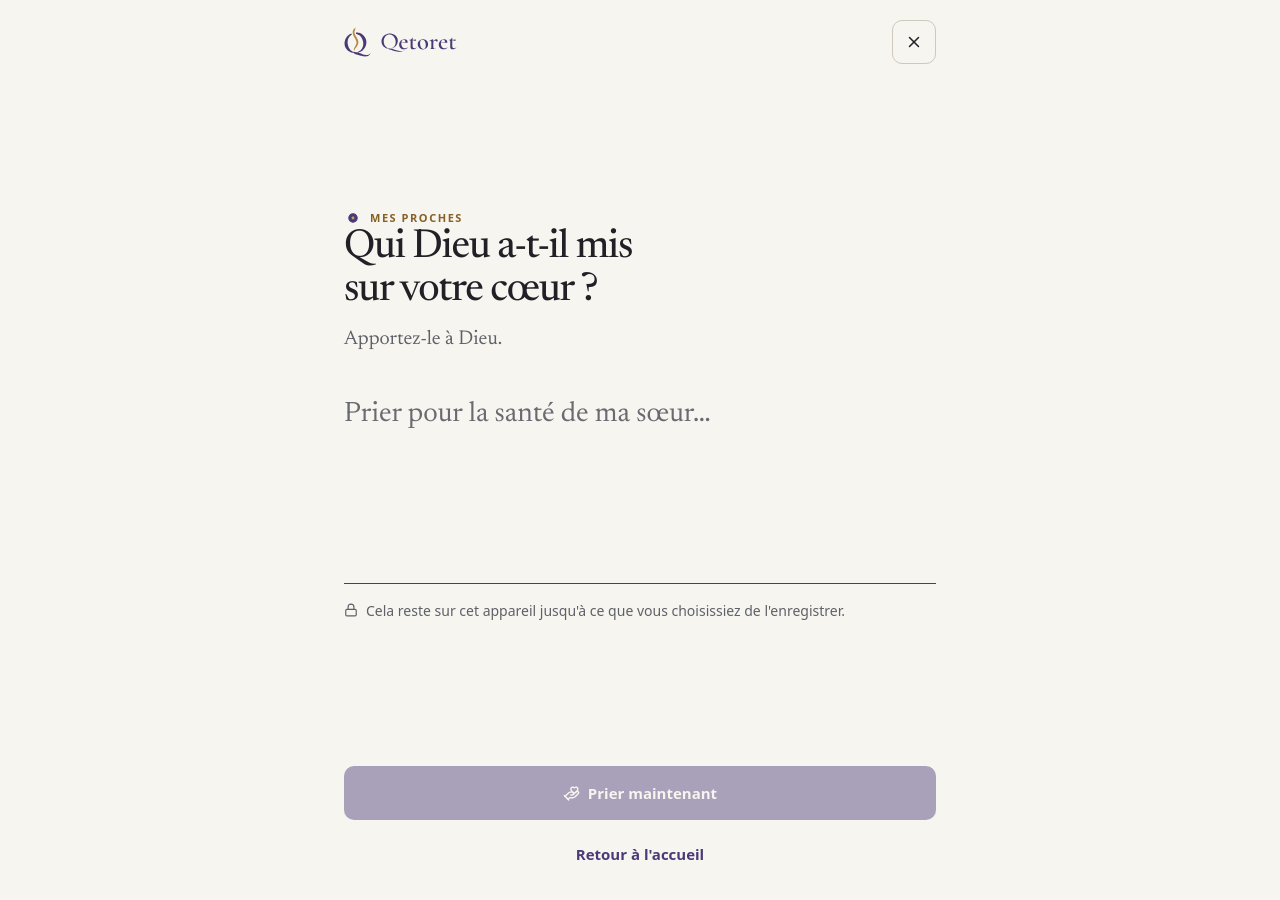
Test: GuestPrayerFlow from an Intercession Circle › asks the circle’s own question and keeps the circle with the draft
This screenshot has width=1280, height=900.
Check: the dialog "Qui Dieu a-t-il mis sur votre cœur ?" is shown, box x1=344 y1=20 x2=936 y2=876
Check: the text "Mes proches" is shown, box x1=370 y1=210 x2=463 y2=225
Type "Pour Marie" into the text box named "Qui Dieu a-t-il mis sur votre cœur ?" at [640, 480], box x1=344 y1=377 x2=936 y2=584
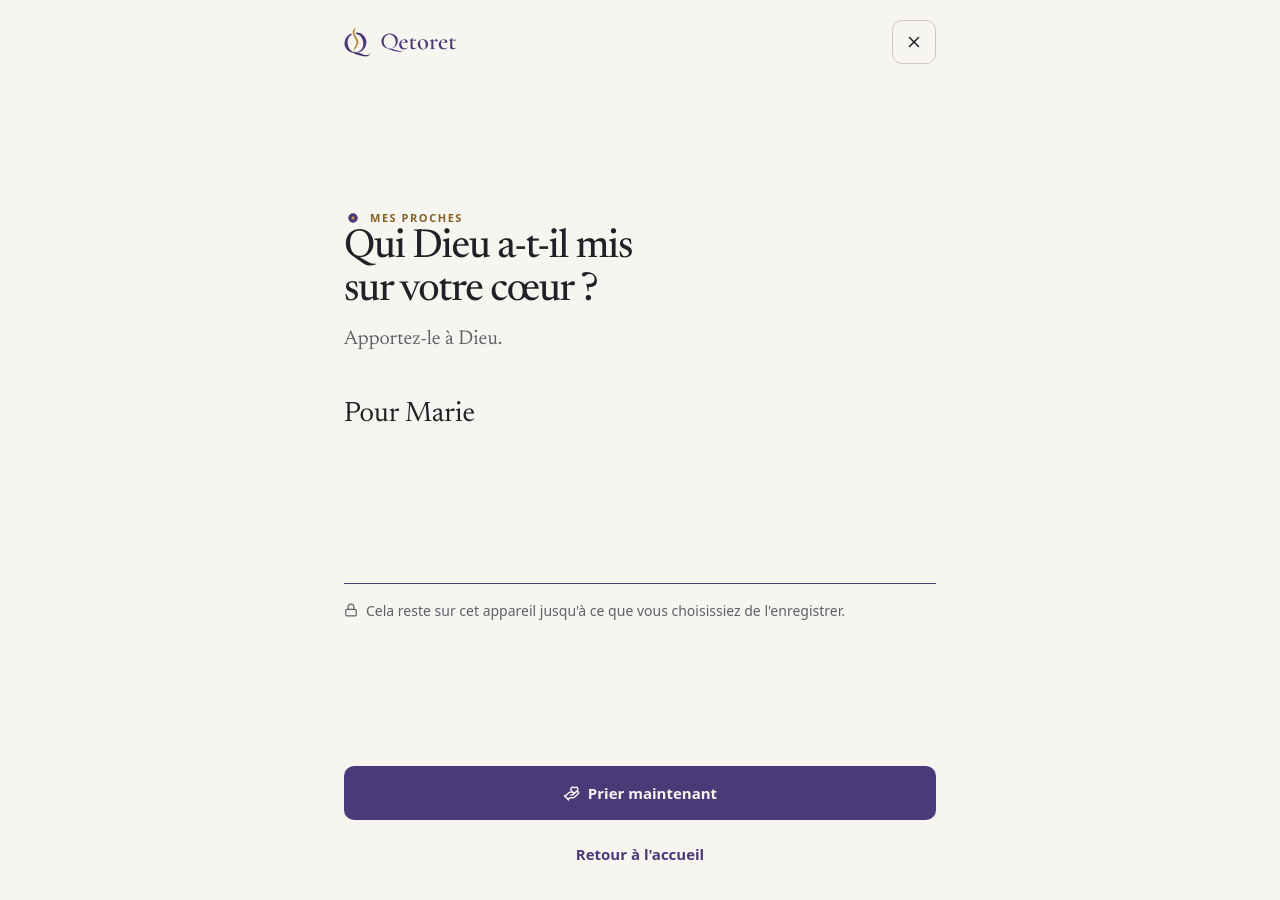
Click the button "Prier maintenant" at [640, 793], box x1=344 y1=766 x2=936 y2=820
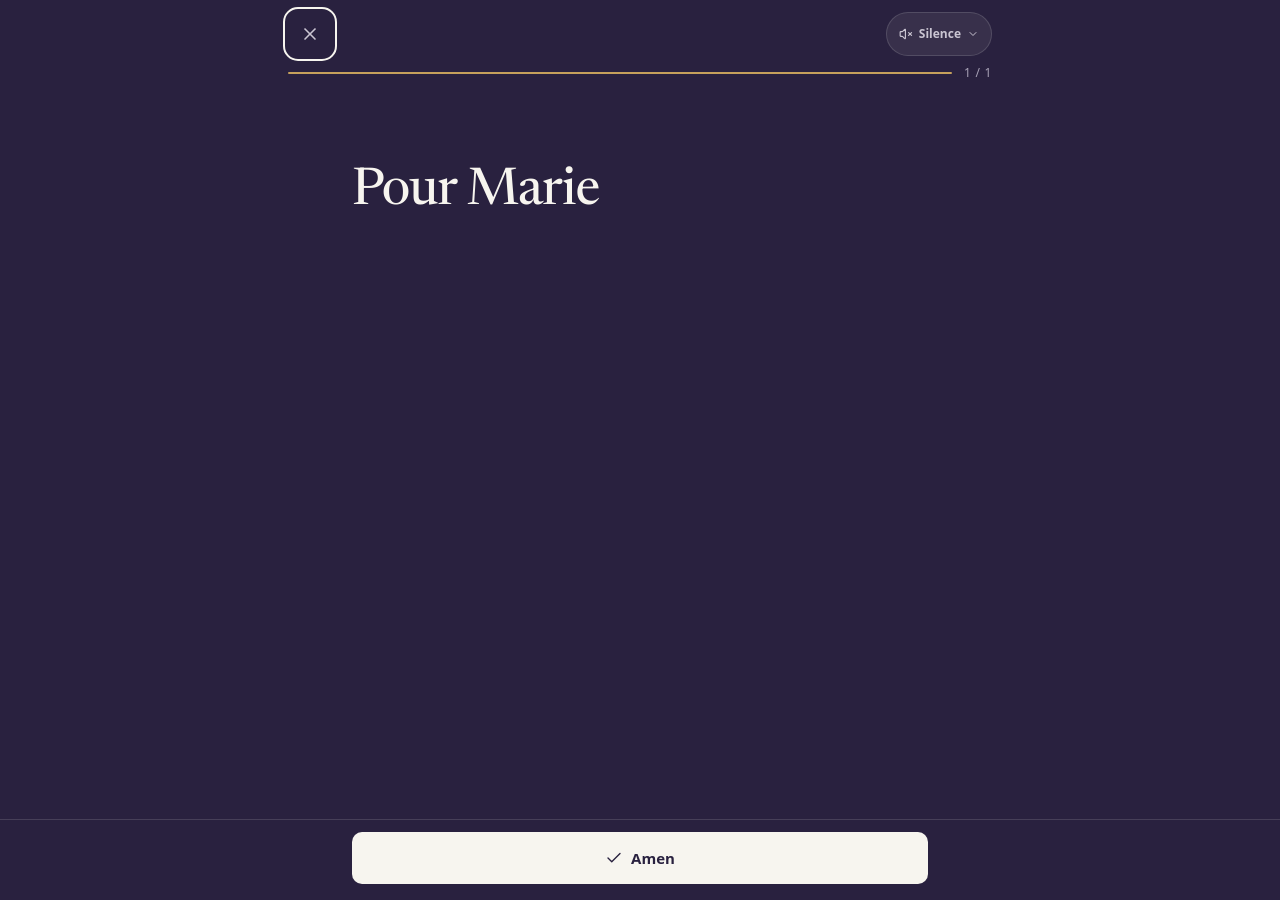
Check: the heading "Pour Marie" is shown, box x1=352 y1=166 x2=599 y2=218
